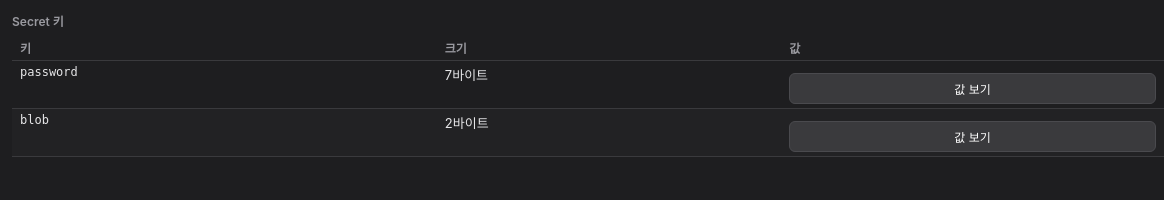
Scenario: lists keys with sizes and reads a value only when asked
The width and height of the screenshot is (1164, 200).
Expected: the text "password" is shown, [12,60,437,108]
Click the button "값 보기" in the row of "password".
click(973, 88)  # box [789,73,1156,104]
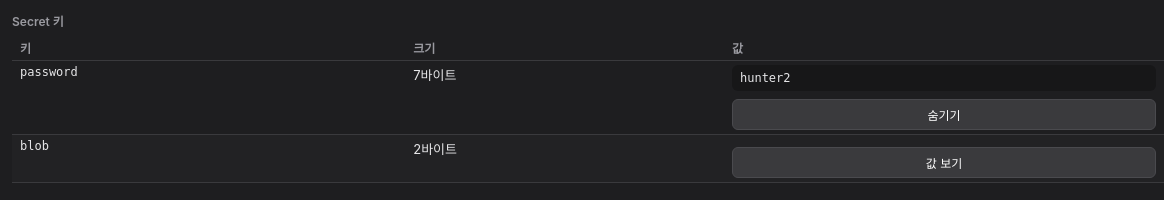
Expected: the text "hunter2" is shown, [732,65,1156,91]
Click the button "숨기기".
click(944, 114)  # box [732,99,1156,130]
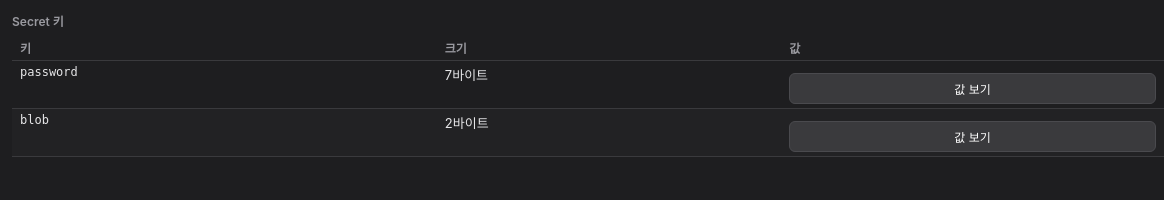
Expected: the text "hunter2" is gone
